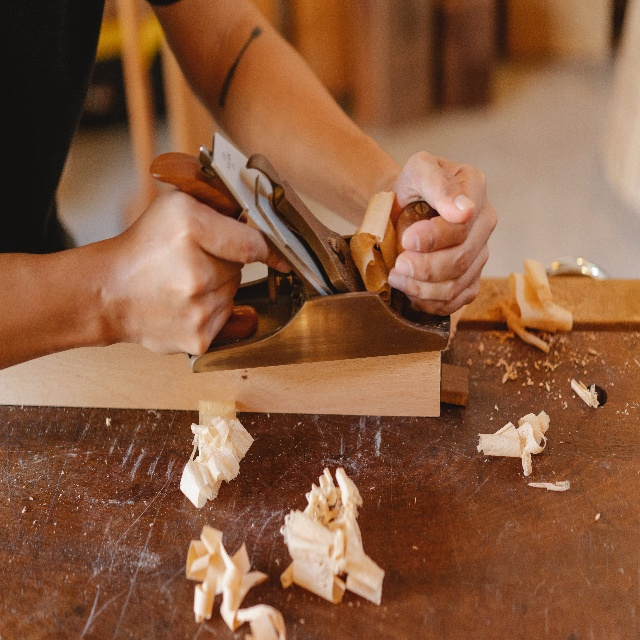Sin_guantes: (112, 186, 292, 357), (386, 150, 498, 316)
